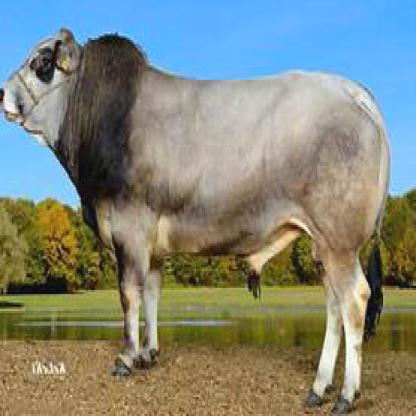cow: (2, 27, 389, 414)
